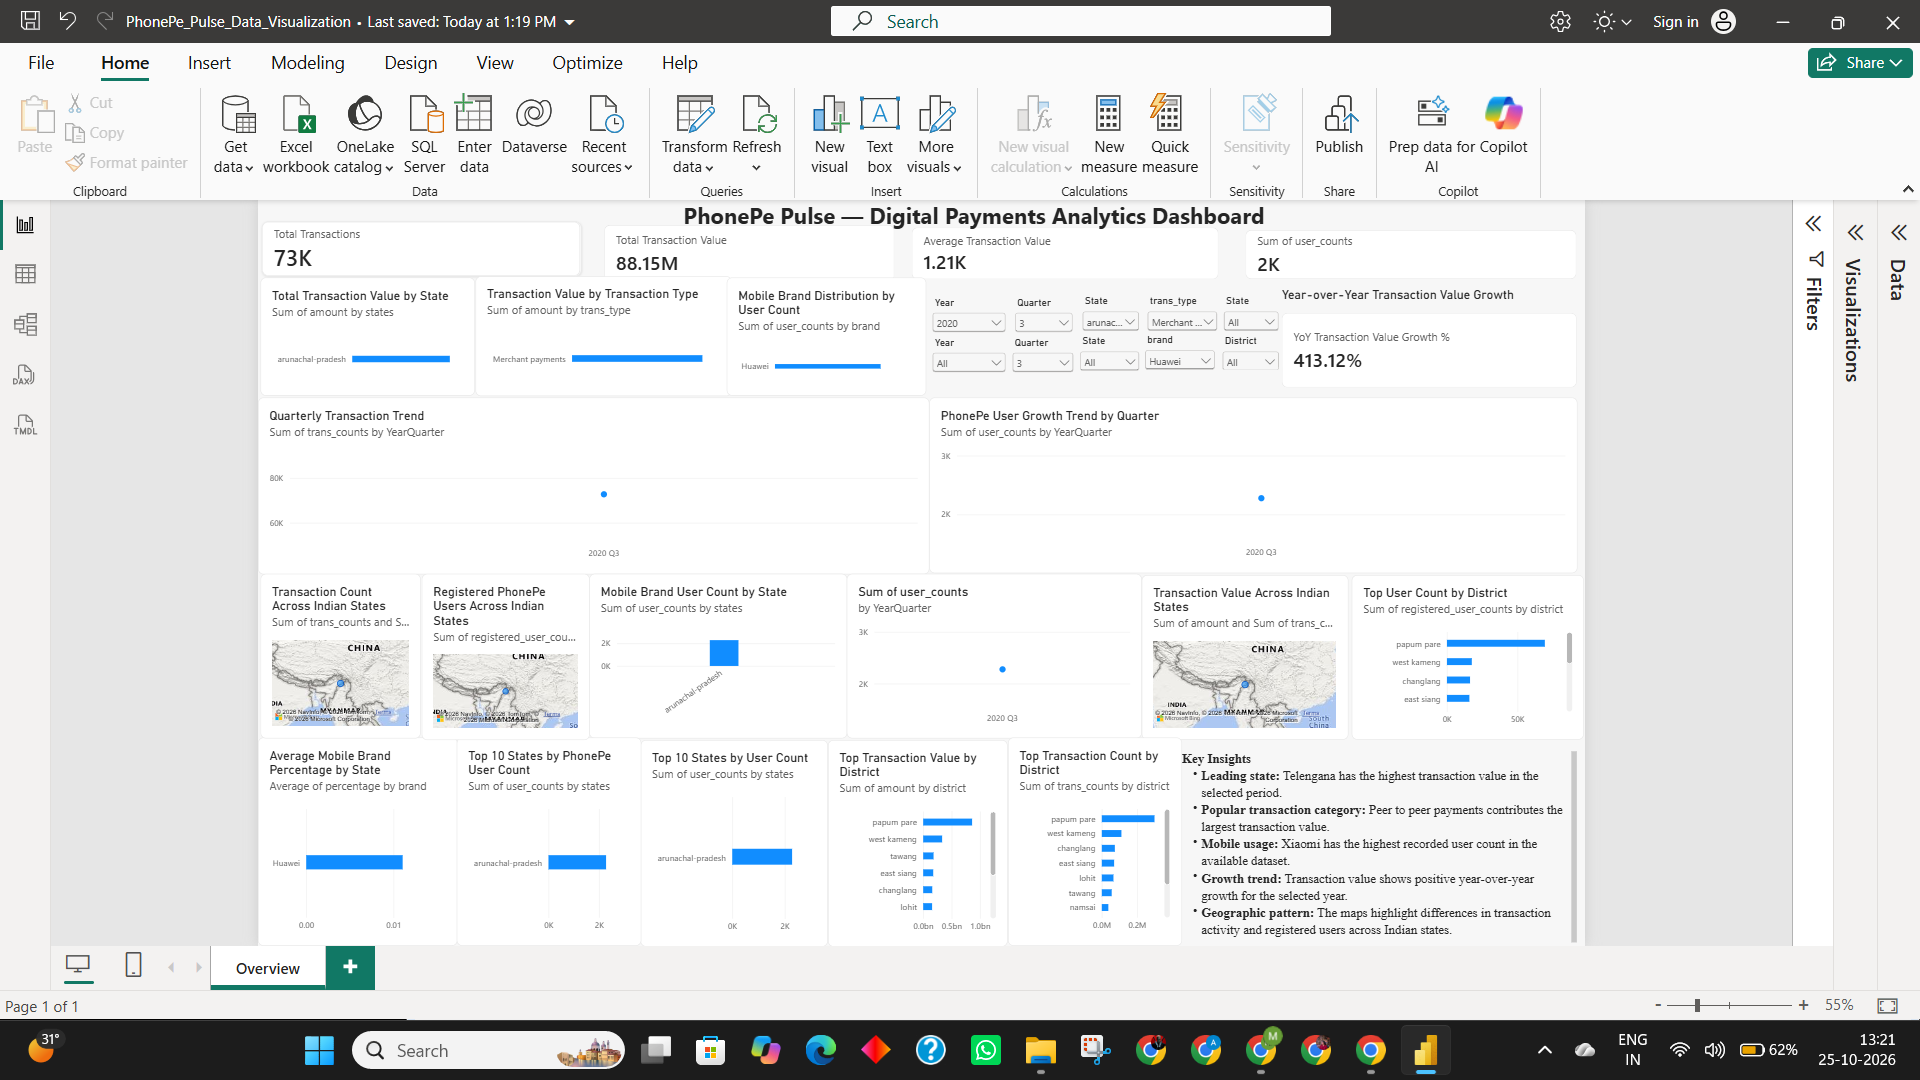

This screenshot's page, from the dashboard's own definition file:
{"tool":"powerbi","page":{"name":"Overview","canvas":[1920,1080],"ordinal":0},"visuals":[{"type":"cardVisual","fields":{"Data":["Aggregated_Transaction.Total Transactions"]},"box":[5.5,31,462.9,80],"z":0},{"type":"cardVisual","fields":{"Data":["Aggregated_Transaction.Total Transaction Value"]},"box":[501.3,36.9,420,82.9],"z":1000},{"type":"cardVisual","fields":{"Data":["Aggregated_Transaction.Average Transaction Value"]},"box":[946.1,39.1,444.8,75.9],"z":2000},{"type":"clusteredBarChart","title":"Total Transaction Value by State","fields":{"Category":["Aggregated_Transaction.states"],"Y":["Sum(Aggregated_Transaction.amount)"]},"box":[4.3,112.8,310.3,171.4],"z":3000},{"type":"clusteredBarChart","title":"Transaction Value by Transaction Type","fields":{"Category":["Aggregated_Transaction.trans_type"],"Y":["Sum(Aggregated_Transaction.amount)"]},"box":[314.6,110.7,371.1,173.6],"z":4000},{"type":"slicer","fields":{"Values":["Dim_Year.Year"]},"box":[972.2,138.9,115,62.9],"z":5000},{"type":"slicer","fields":{"Values":["Dim_Quarter.Quarter"]},"box":[1091.5,138.9,93.3,62.9],"z":6000},{"type":"slicer","fields":{"Values":["Dim_State.State"]},"box":[1189.2,136.7,91.1,60.8],"z":7000},{"type":"slicer","fields":{"Values":["Aggregated_Transaction.trans_type"]},"box":[1282.5,136.7,110.7,60.8],"z":8000},{"type":"lineChart","title":"Quarterly Transaction Trend","fields":{"Category":["Aggregated_Transaction.YearQuarter"],"Y":["Sum(Aggregated_Transaction.trans_counts)"]},"box":[0,286,972,256],"z":9000},{"type":"map","title":"Transaction Value Across Indian States","fields":{"Category":["Aggregated_Transaction.states"],"Size":["Sum(Aggregated_Transaction.amount)"]},"box":[1280.3,542.5,299.5,238.7],"z":10000},{"type":"clusteredBarChart","title":"Mobile Brand Distribution by User Count","fields":{"Category":["Aggregated_User.brand"],"Y":["Sum(Aggregated_User.user_counts)"]},"box":[679.2,112.8,288.6,171.4],"z":11000},{"type":"slicer","fields":{"Values":["Aggregated_User.brand"]},"box":[1280.3,193.1,110.7,60.8],"z":12000},{"type":"clusteredColumnChart","title":"Mobile Brand User Count by State","fields":{"Category":["Aggregated_User.states"],"Y":["Sum(Aggregated_User.user_counts)"]},"box":[479.6,540.3,373.2,238.7],"z":13000},{"type":"clusteredBarChart","title":"Average Mobile Brand Percentage by State","fields":{"Category":["Aggregated_User.brand"],"Y":["Avg(Aggregated_User.percentage)"]},"box":[0,779,288.6,301.6],"z":14000},{"type":"cardVisual","fields":{"Data":["Sum(Aggregated_User.user_counts)"]},"box":[1430,43.4,479.6,71.6],"z":15000},{"type":"lineChart","fields":{"Category":["Aggregated_User.YearQuarter"],"Y":["Sum(Aggregated_User.user_counts)"]},"box":[852.8,540.3,427.5,238.7],"z":16000},{"type":"clusteredBarChart","title":"Top 10 States by User Count","fields":{"Category":["Aggregated_User.states"],"Y":["Sum(Aggregated_User.user_counts)"]},"box":[553.3,781.2,271.2,299.5],"z":17000},{"type":"slicer","fields":{"Values":["Dim_Year.Year"]},"box":[972.2,197.5,115,56.4],"z":18000},{"type":"slicer","fields":{"Values":["Dim_Quarter.Quarter"]},"box":[1087.2,197.5,97.6,67.3],"z":19000},{"type":"slicer","fields":{"Values":["Dim_State.State"]},"box":[1184.8,195.3,95.5,60.8],"z":20000},{"type":"lineChart","title":"PhonePe User Growth Trend by Quarter","fields":{"Category":["Aggregated_User.YearQuarter"],"Y":["Sum(Aggregated_User.user_counts)"]},"box":[972,286,938,254],"z":21000},{"type":"clusteredBarChart","title":"Top 10 States by PhonePe User Count","fields":{"Category":["Aggregated_User.states"],"Y":["Sum(Aggregated_User.user_counts)"]},"box":[288.6,779,266.9,301.6],"z":22000},{"type":"cardVisual","title":"Year-over-Year Transaction Value Growth","fields":{"Data":["Aggregated_Transaction.YoY Transaction Value Growth %"]},"box":[1482.1,125.9,427.5,145.4],"z":23000},{"type":"slicer","fields":{"Values":["Dim_District.District"]},"box":[1391,195.3,91.1,49.9],"z":24000},{"type":"slicer","fields":{"Values":["Dim_State.State"]},"box":[1393.1,136.7,89,54.2],"z":25000},{"type":"clusteredBarChart","title":"Top Transaction Count by District","fields":{"Category":["Top_Transaction.district"],"Y":["Sum(Top_Transaction.trans_counts)"]},"box":[1085,779,251.7,301.6],"z":26000},{"type":"clusteredBarChart","title":"Top Transaction Value by District","fields":{"Category":["Top_Transaction.district"],"Y":["Sum(Top_Transaction.amount)"]},"box":[824.6,781.2,260.4,299.5],"z":27000},{"type":"map","title":"Transaction Count Across Indian States","fields":{"Category":["Map_Transaction.states"],"Size":["Sum(Map_Transaction.trans_counts)"]},"box":[4.3,540.3,232.2,238.7],"z":28000},{"type":"map","title":"Registered PhonePe Users Across Indian States","fields":{"Category":["Map_User.states"],"Size":["Sum(Map_User.registered_user_counts)"]},"box":[236.5,540.3,243,240.9],"z":29000},{"type":"clusteredBarChart","title":"Top User Count by District","fields":{"Category":["Top_User.district"],"Y":["Sum(Top_User.registered_user_counts)"]},"box":[1584.1,542.5,336.3,238.7],"z":30000},{"type":"textbox","box":[154.3,0,1765.7,57.1],"z":31000},{"type":"textbox","box":[1338,798,572,282],"z":31001}]}

Visuals, with their boxes on the page's 1920x1080 design canvas (x1, y1, x2, y2). These are canvas units, not pixel positions in the 1920x1080 screenshot, which may show the page scaled, cropped or inside an application window:
cardVisual - Aggregated_Transaction.Total Transactions: [left=6, top=31, right=468, bottom=111]
cardVisual - Aggregated_Transaction.Total Transaction Value: [left=501, top=37, right=921, bottom=120]
cardVisual - Aggregated_Transaction.Average Transaction Value: [left=946, top=39, right=1391, bottom=115]
"Total Transaction Value by State" clusteredBarChart: [left=4, top=113, right=315, bottom=284]
"Transaction Value by Transaction Type" clusteredBarChart: [left=315, top=111, right=686, bottom=284]
slicer - Dim_Year.Year: [left=972, top=139, right=1087, bottom=202]
slicer - Dim_Quarter.Quarter: [left=1092, top=139, right=1185, bottom=202]
slicer - Dim_State.State: [left=1189, top=137, right=1280, bottom=198]
slicer - Aggregated_Transaction.trans_type: [left=1282, top=137, right=1393, bottom=198]
"Quarterly Transaction Trend" lineChart: [left=0, top=286, right=972, bottom=542]
"Transaction Value Across Indian States" map: [left=1280, top=542, right=1580, bottom=781]
"Mobile Brand Distribution by User Count" clusteredBarChart: [left=679, top=113, right=968, bottom=284]
slicer - Aggregated_User.brand: [left=1280, top=193, right=1391, bottom=254]
"Mobile Brand User Count by State" clusteredColumnChart: [left=480, top=540, right=853, bottom=779]
"Average Mobile Brand Percentage by State" clusteredBarChart: [left=0, top=779, right=289, bottom=1081]
cardVisual - Sum(Aggregated_User.user_counts): [left=1430, top=43, right=1910, bottom=115]
lineChart - Aggregated_User.YearQuarter x Sum(Aggregated_User.user_counts): [left=853, top=540, right=1280, bottom=779]
"Top 10 States by User Count" clusteredBarChart: [left=553, top=781, right=824, bottom=1081]
slicer - Dim_Year.Year: [left=972, top=198, right=1087, bottom=254]
slicer - Dim_Quarter.Quarter: [left=1087, top=198, right=1185, bottom=265]
slicer - Dim_State.State: [left=1185, top=195, right=1280, bottom=256]
"PhonePe User Growth Trend by Quarter" lineChart: [left=972, top=286, right=1910, bottom=540]
"Top 10 States by PhonePe User Count" clusteredBarChart: [left=289, top=779, right=556, bottom=1081]
"Year-over-Year Transaction Value Growth" cardVisual: [left=1482, top=126, right=1910, bottom=271]
slicer - Dim_District.District: [left=1391, top=195, right=1482, bottom=245]
slicer - Dim_State.State: [left=1393, top=137, right=1482, bottom=191]
"Top Transaction Count by District" clusteredBarChart: [left=1085, top=779, right=1337, bottom=1081]
"Top Transaction Value by District" clusteredBarChart: [left=825, top=781, right=1085, bottom=1081]
"Transaction Count Across Indian States" map: [left=4, top=540, right=236, bottom=779]
"Registered PhonePe Users Across Indian States" map: [left=236, top=540, right=480, bottom=781]
"Top User Count by District" clusteredBarChart: [left=1584, top=542, right=1920, bottom=781]
textbox: [left=154, top=0, right=1920, bottom=57]
textbox: [left=1338, top=798, right=1910, bottom=1080]
